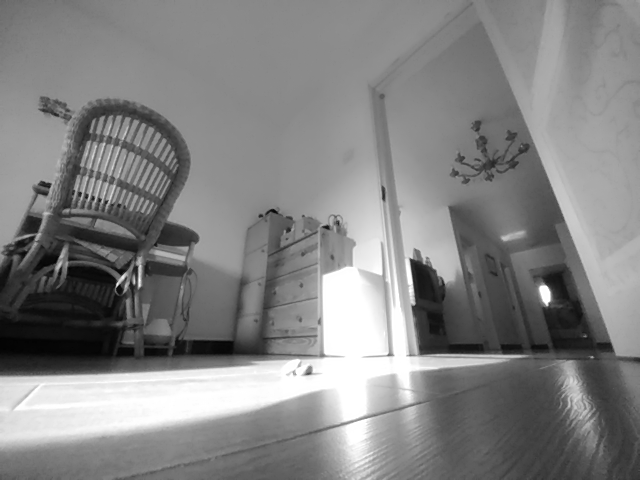pet feces: (279, 356, 313, 379)
